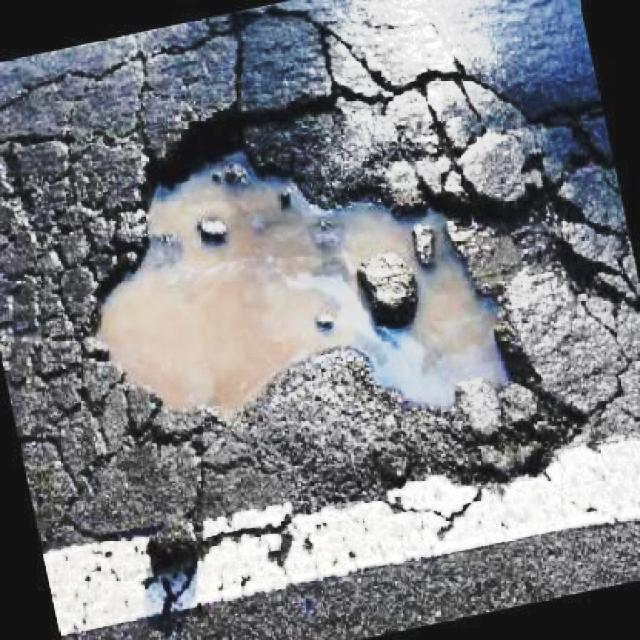pothole: (64, 80, 634, 425)
